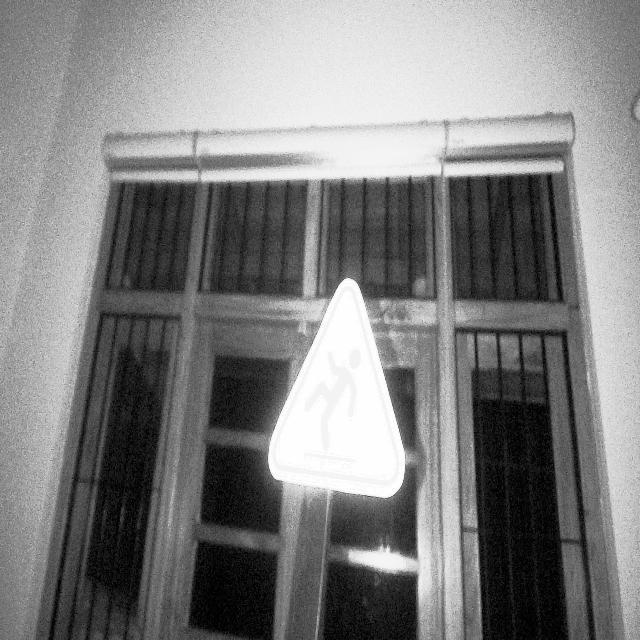Sign: (267, 277, 407, 501)
